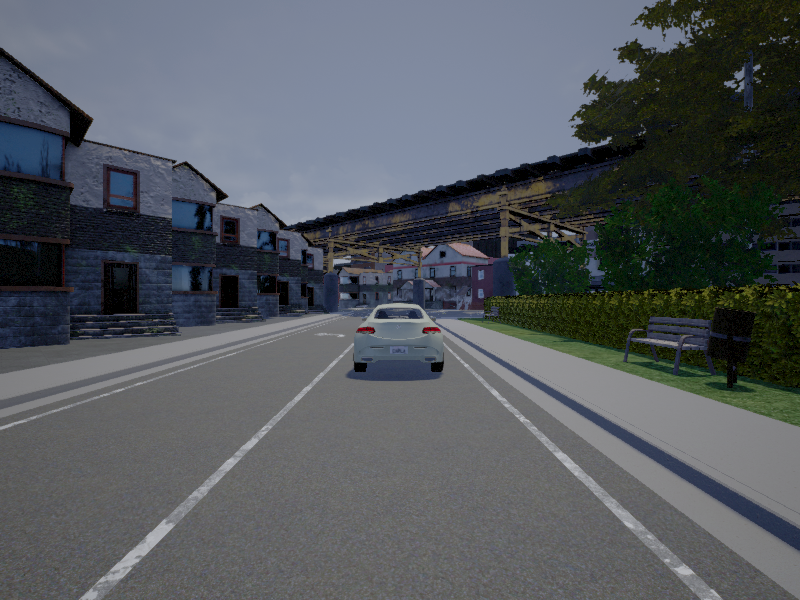Benign: (351, 301, 443, 373)
